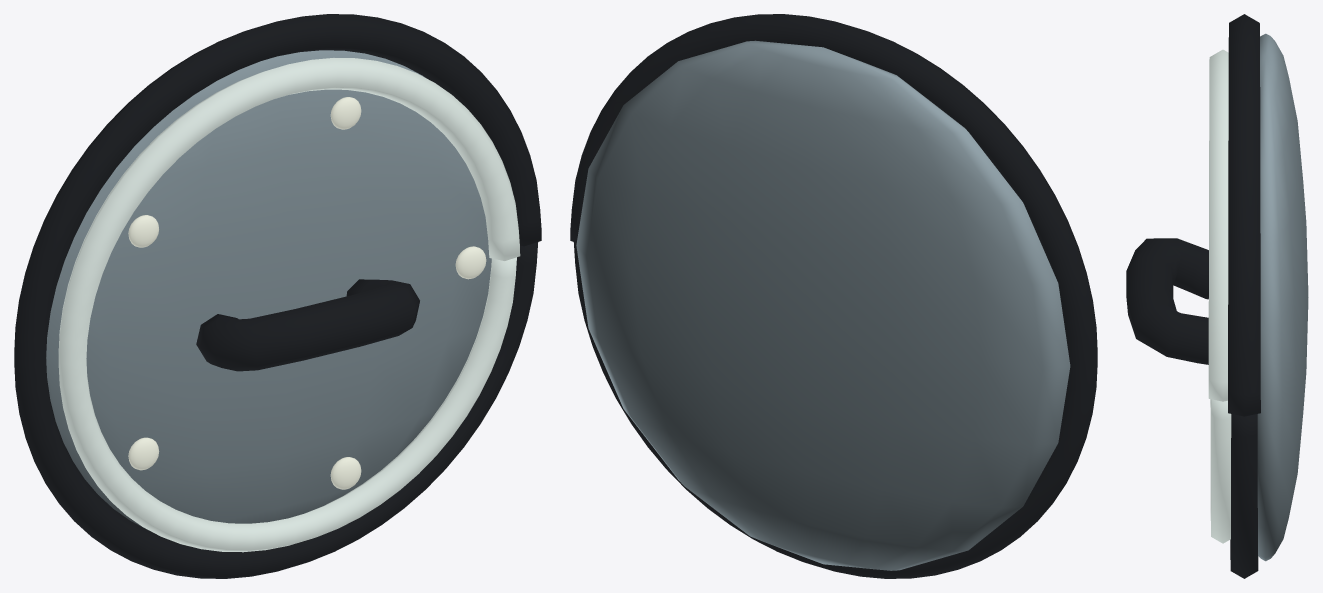
File: shield.glb
3 renders of one model, left to right at view 1: azimuth 30°, elevation 25°; view 2: azimuth 150°, elevation 25°; view 3: azimuth 270°, elevation 25°, orthographic. The views are drawn at different scales.
Parts seen in each view (by area): view 1: shield_Game; view 2: shield_Game; view 3: shield_Game.
Boxes of the visible parts, <box> form: shield_Game: <box>14,14,541,578</box>; shield_Game: <box>570,14,1097,578</box>; shield_Game: <box>1126,14,1308,578</box>.
Size of the model in its own units: 1.2 by 1.19 by 0.3833.
